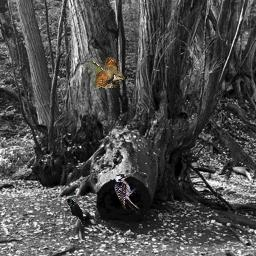Crow: (65, 198, 85, 226)
Cuckoo: (85, 57, 125, 88)
Woodpecker: (114, 174, 140, 214)
